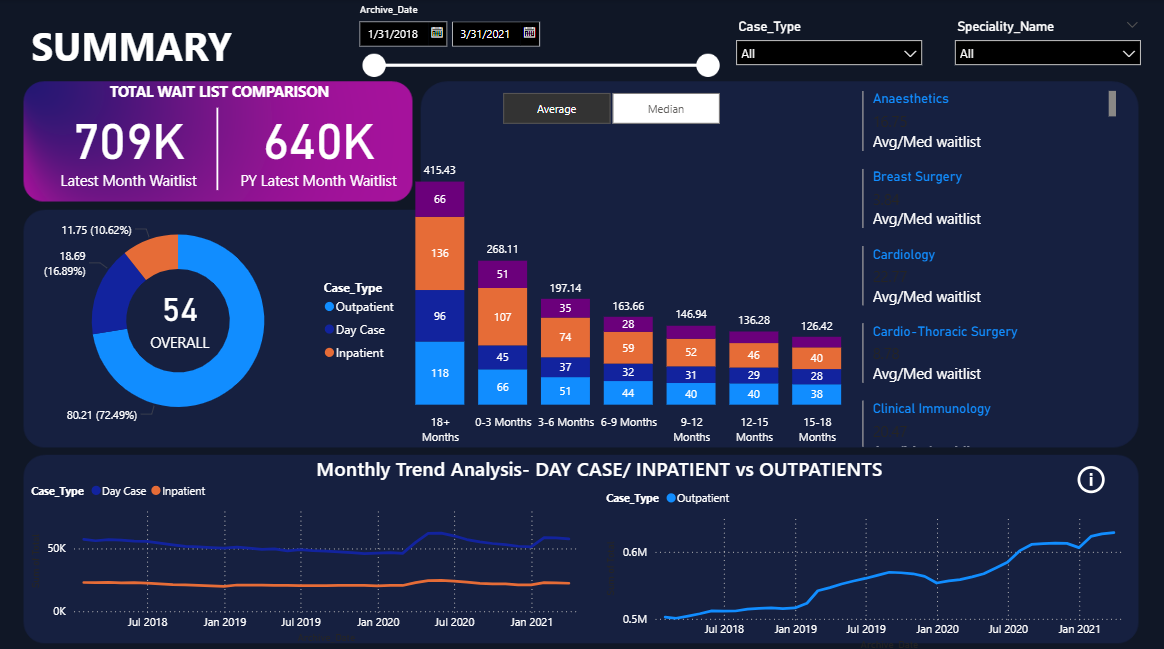

The dashboard page shown, as its layout file describes it:
{"tool":"powerbi","page":{"name":"Summary","canvas":[1280,720],"ordinal":0},"visuals":[{"type":"card","fields":{"Values":["All_Data.Latest Month Waitlist"]},"box":[32,64,224,192],"z":0},{"type":"card","fields":{"Values":["All_Data.PY latest month waitlist"]},"box":[240,64,224,192],"z":1000},{"type":"slicer","fields":{"Values":["Calculation Method.CALC method"]},"box":[528,96,288,48],"z":2000},{"type":"donutChart","fields":{"Category":["All_Data.Case_Type"],"Y":["All_Data.Avg/Med waitlist"]},"box":[32.9,209.9,415.8,286.8],"z":3000},{"type":"columnChart","fields":{"Y":["All_Data.Avg/Med waitlist"],"Category":["All_Data.Time_Bands"],"Series":["All_Data.Age_Profile"]},"box":[416,160,544,336],"z":4000},{"type":"multiRowCard","fields":{"Values":["All_Data.Specialty_Name","All_Data.Avg/Med waitlist"]},"box":[944,96,288,400],"z":5000},{"type":"lineChart","fields":{"Category":["All_Data.Archive_Date"],"Y":["Sum(All_Data.Total)"],"Series":["All_Data.Case_Type"]},"box":[31.6,520.1,624.4,192.1],"z":6000},{"type":"lineChart","fields":{"Category":["All_Data.Archive_Date"],"Y":["Sum(All_Data.Total)"],"Series":["All_Data.Case_Type"]},"box":[662.8,528.3,591.4,192.1],"z":7000},{"type":"slicer","fields":{"Values":["All_Data.Archive_Date"]},"box":[384,0,416,96],"z":8000},{"type":"slicer","fields":{"Values":["All_Data.Case_Type"]},"box":[800,16,224,64],"z":9000},{"type":"slicer","fields":{"Values":["All_Data.Speciality_Name"]},"box":[1040,16,224,64],"z":10000},{"type":"textbox","box":[32,16,240,80],"z":11000},{"type":"card","fields":{"Values":["All_Data.Avg/Med waitlist"]},"box":[144.1,296.4,111.1,104.3],"z":12000},{"type":"shape","box":[89.2,119.4,303.3,90.6],"z":13000},{"type":"textbox","box":[93.3,85.1,299.1,34.3],"z":14000},{"type":"textbox","box":[344.4,495.4,655.9,48],"z":15000},{"type":"actionButton","box":[1180.1,507.7,52.1,39.8],"z":16000}]}

Visuals, with their boxes in screenshot pixels (x1, y1, x2, y2), scaled from the page's 1280x720 canvas onto the 1164x649 screenshot:
card - All_Data.Latest Month Waitlist: [29,58,233,231]
card - All_Data.PY latest month waitlist: [218,58,422,231]
slicer - Calculation Method.CALC method: [480,87,742,130]
donutChart - All_Data.Case_Type x All_Data.Avg/Med waitlist: [30,189,408,448]
columnChart - All_Data.Avg/Med waitlist x All_Data.Time_Bands: [378,144,873,447]
multiRowCard - All_Data.Specialty_Name x All_Data.Avg/Med waitlist: [858,87,1120,447]
lineChart - All_Data.Archive_Date x Sum(All_Data.Total): [29,469,597,642]
lineChart - All_Data.Archive_Date x Sum(All_Data.Total): [603,476,1141,648]
slicer - All_Data.Archive_Date: [349,0,728,87]
slicer - All_Data.Case_Type: [728,14,931,72]
slicer - All_Data.Speciality_Name: [946,14,1149,72]
textbox: [29,14,247,87]
card - All_Data.Avg/Med waitlist: [131,267,232,361]
shape: [81,108,357,189]
textbox: [85,77,357,108]
textbox: [313,447,910,490]
actionButton: [1073,458,1121,494]
